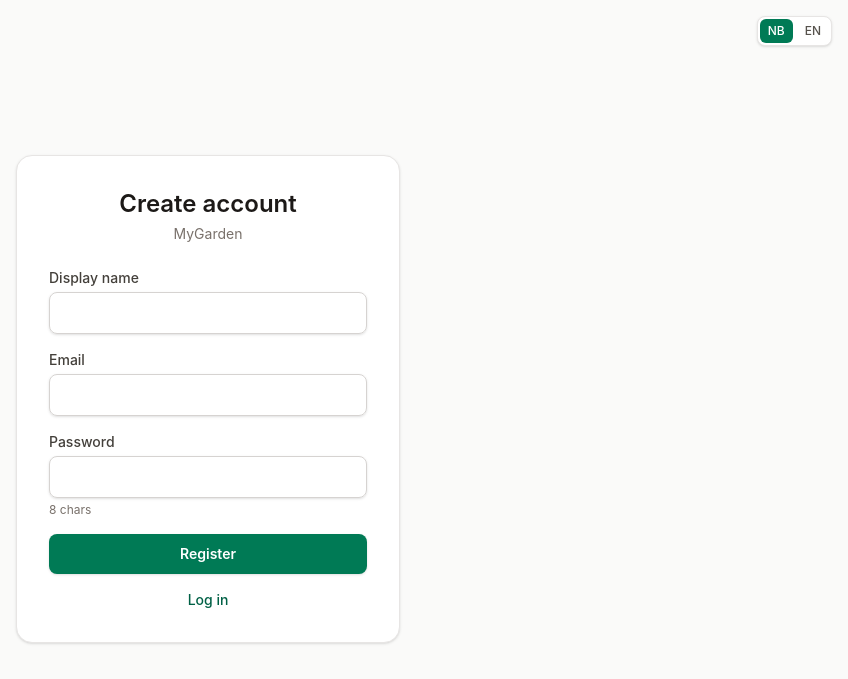
Test: RegisterPage › shows Problem Details message when email is not approved
Type "Bob" into the field labelled "Display name" at [208, 313], box [49, 292, 367, 334]
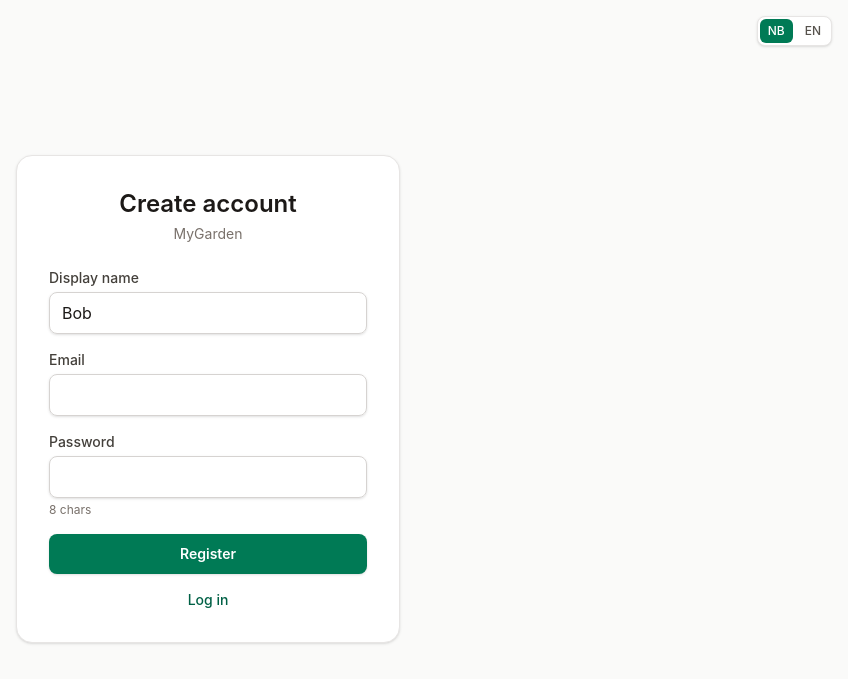
Type "bob@example.com" into the field labelled "Email" at [208, 395], box [49, 374, 367, 416]
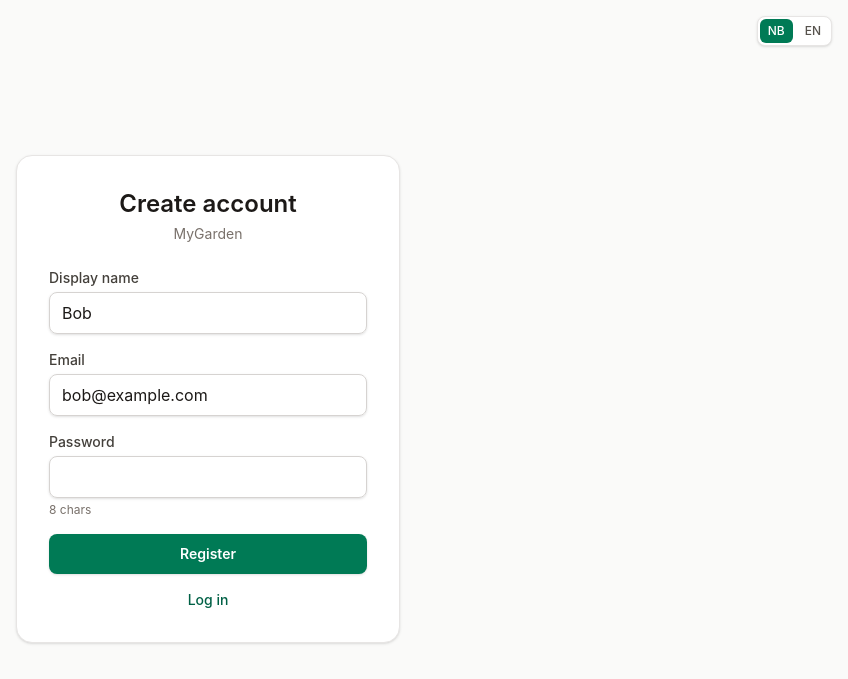
Type "password12" into the password field labelled "Password" at [208, 477], box [49, 456, 367, 498]
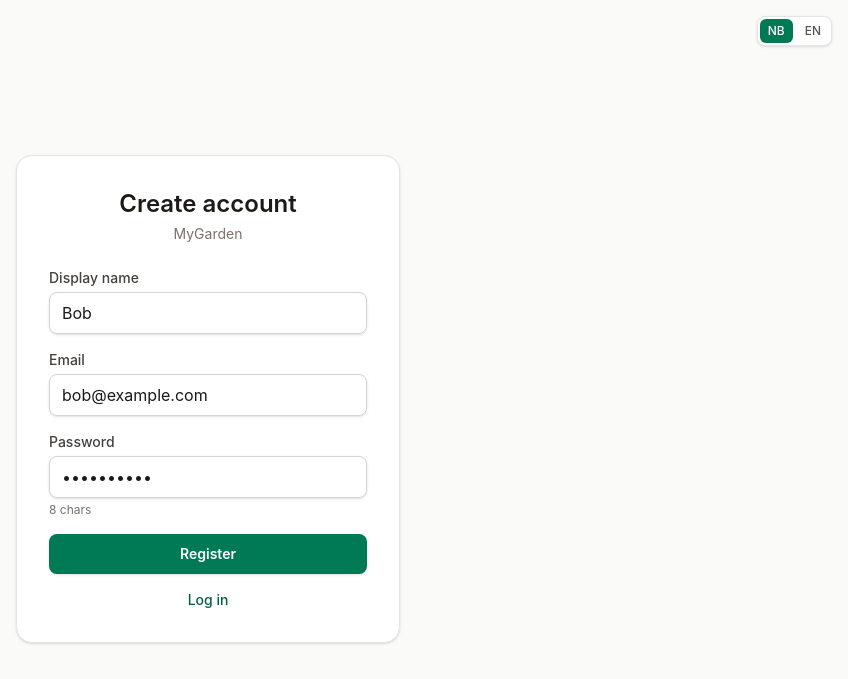
Click the button with test id "register-submit" at [208, 554], box [49, 534, 367, 574]
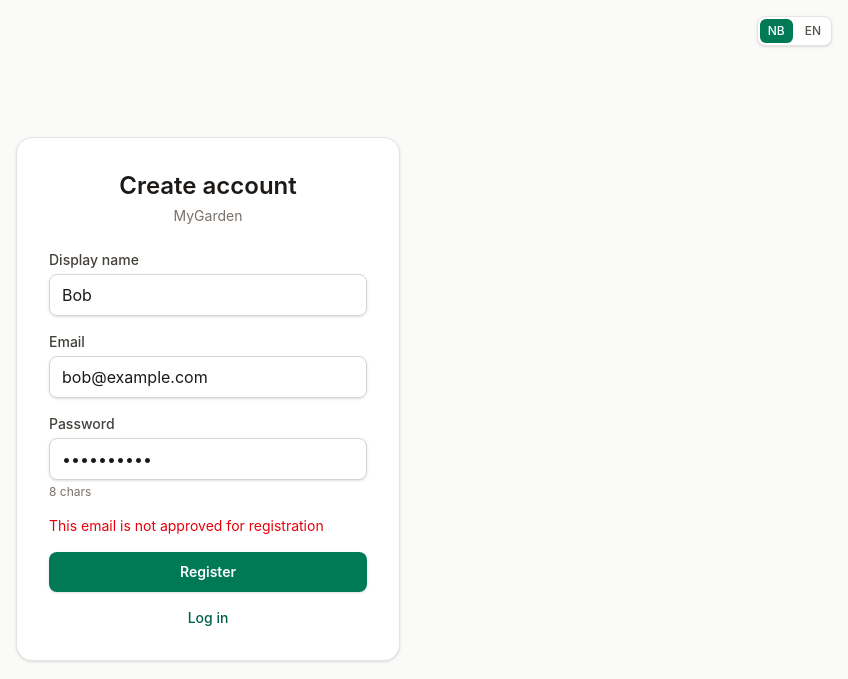
Check: the message with test id "register-error" reads "This email is not approved for registration", box [49, 517, 324, 534]
